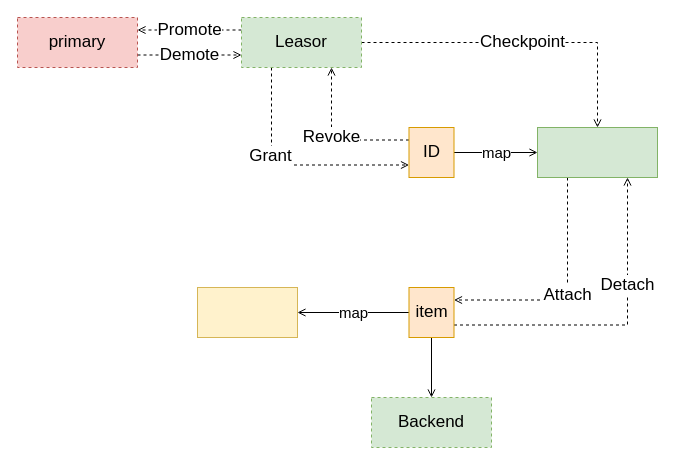
Image size: 675x465. Some labels were removed from this diagram. Each missing label, with the box of its shape:
Lease: (536, 126, 658, 178)
struct{}: (196, 286, 298, 338)
